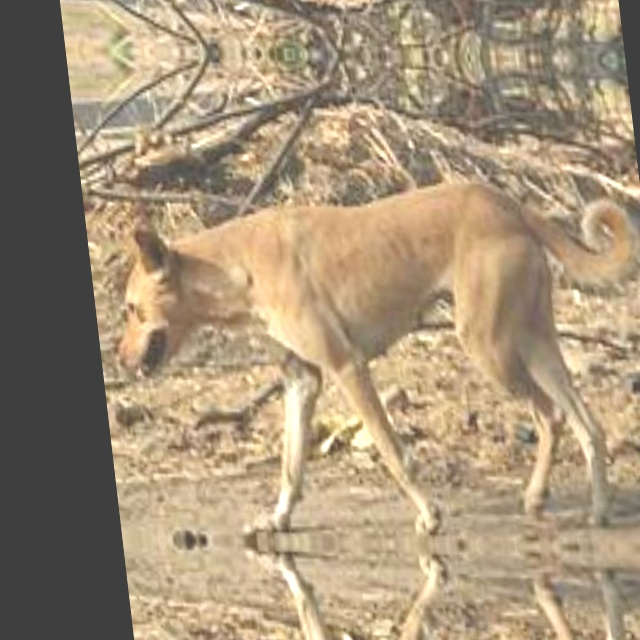dog: (81, 181, 640, 530), (125, 559, 640, 640)
